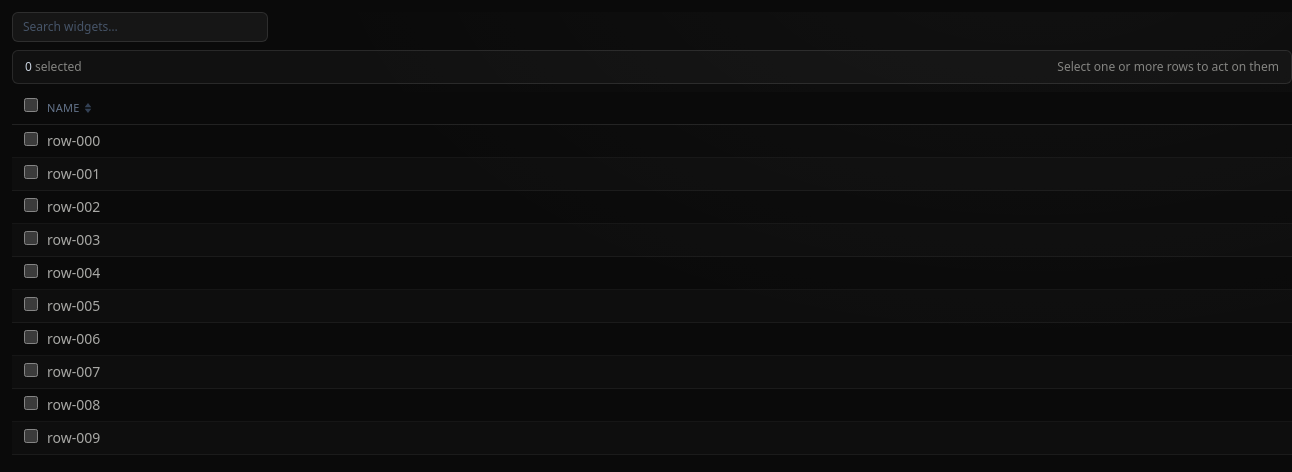
Test: DataTable, selection › ⚠ THE BAR IS PRESENT AT ZERO, a footer that appears on first click moves the layout under the cursor
Expected: the text "Select one or more rows to act on them" is shown, [1057,59,1279,75]
Expected: the button "Revoke" is not shown
Click the checkbox named "Select row-000". click: (31, 139)
box: [24,132,38,146]
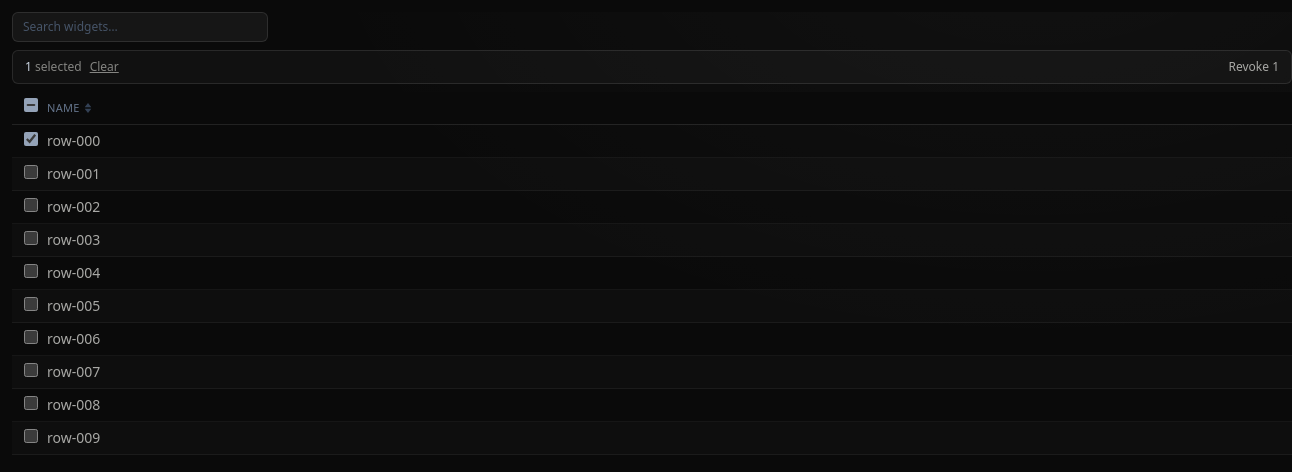
Expected: the button "Revoke 1" is shown, [1228,59,1279,75]
